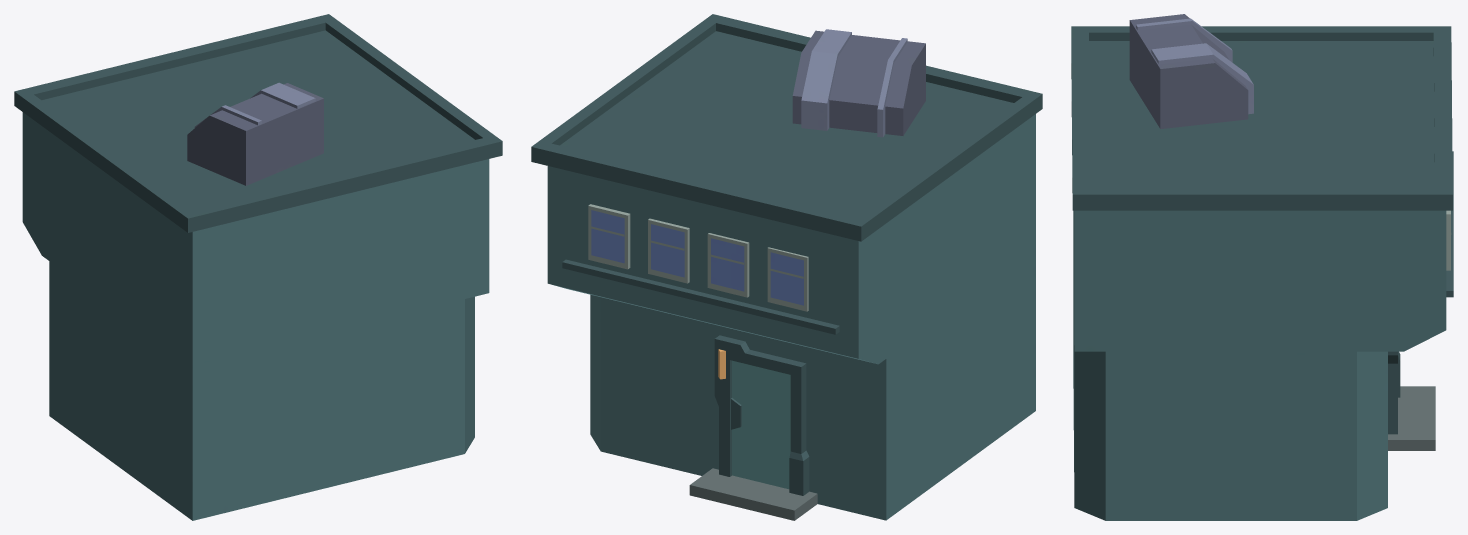
Rendered from SouthWest_House_01.fbx.
3 renders of one model, left to right at view 1: azimuth 30°, elevation 25°; view 2: azimuth 150°, elevation 25°; view 3: azimuth 270°, elevation 25°, orthographic. The views are drawn at different scales.
Parts seen in each view (by area): view 1: SouthWest_House_01; view 2: SouthWest_House_01; view 3: SouthWest_House_01.
Boxes of the visible parts, bbox=[...] form: SouthWest_House_01: bbox=[14, 14, 502, 520]; SouthWest_House_01: bbox=[531, 14, 1042, 520]; SouthWest_House_01: bbox=[1071, 14, 1453, 520].
Size of the model in its own units: 17.22 by 18.59 by 16.54.
2 materials, 2 textured.
